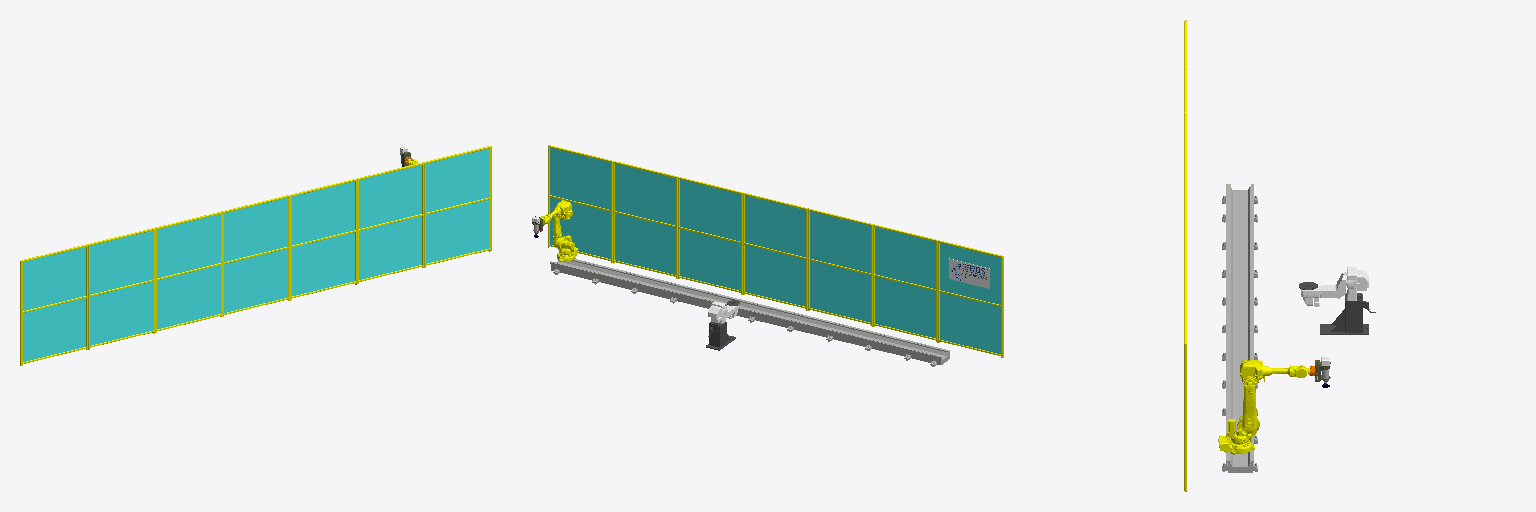
robot.urdf — tesseract_workcell_rail:
<?xml version="1.0" encoding="utf-8"?>
<!-- =================================================================================== -->
<!-- |    This document was autogenerated by xacro from workcell_rail.xacro            | -->
<!-- |    EDITING THIS FILE BY HAND IS NOT RECOMMENDED                                 | -->
<!-- =================================================================================== -->
<robot name="tesseract_workcell_rail">
  <!-- link list -->
  <link name="ati_qc110m_base_link">
    <visual>
      <origin rpy="0 0 0" xyz="0 0 0"/>
      <geometry>
        <mesh filename="package://twc_support/CAD/eoat/ati_qc110m/urdf/visual/base_link.dae"/>
      </geometry>
    </visual>
    <collision>
      <origin rpy="0 0 0" xyz="0 0 0"/>
      <geometry>
        <mesh filename="package://twc_support/CAD/eoat/ati_qc110m/urdf/visual/base_link.dae"/>
      </geometry>
    </collision>
  </link>
  <link name="ati_qc110m_tool0"/>
  <!-- end of link list -->
  <!-- joint list -->
  <joint name="ati_qc110m_base_link_tool0" type="fixed">
    <origin rpy="0 0 0" xyz="0 0 0.05537"/>
    <parent link="ati_qc110m_base_link"/>
    <child link="ati_qc110m_tool0"/>
  </joint>
  <!-- end of joint list -->
  <!-- link list -->
  <link name="ati_qc110f_base_link">
    <visual>
      <origin rpy="0 0 0" xyz="0 0 0"/>
      <geometry>
        <mesh filename="package://twc_support/CAD/eoat/ati_qc110f/urdf/visual/base_link.dae"/>
      </geometry>
    </visual>
    <collision>
      <origin rpy="0 0 0" xyz="0 0 0"/>
      <geometry>
        <mesh filename="package://twc_support/CAD/eoat/ati_qc110f/urdf/visual/base_link.dae"/>
      </geometry>
    </collision>
  </link>
  <link name="ati_qc110f_tool0"/>
  <!-- end of link list -->
  <!-- joint list -->
  <joint name="ati_qc110f_base_link_tool0" type="fixed">
    <origin rpy="0 0 0" xyz="0 0 0.03754"/>
    <parent link="ati_qc110f_base_link"/>
    <child link="ati_qc110f_tool0"/>
  </joint>
  <!-- end of joint list -->
  <!-- link list -->
  <link name="pushcorp_afd620_base_link">
    <visual>
      <origin rpy="0 0 0" xyz="0 0 0"/>
      <geometry>
        <mesh filename="package://twc_support/CAD/eoat/pushcorp_afd620/urdf/visual/base_link.dae"/>
      </geometry>
    </visual>
    <collision>
      <origin rpy="0 0 0" xyz="0 0 0"/>
      <geometry>
        <mesh filename="package://twc_support/CAD/eoat/pushcorp_afd620/urdf/visual/base_link.dae"/>
      </geometry>
    </collision>
  </link>
  <link name="pushcorp_afd620_link_1">
    <visual>
      <origin rpy="0 0 0" xyz="0 0 0"/>
      <geometry>
        <mesh filename="package://twc_support/CAD/eoat/pushcorp_afd620/urdf/visual/link_1.dae"/>
      </geometry>
    </visual>
    <collision>
      <origin rpy="0 0 0" xyz="0 0 0"/>
      <geometry>
        <mesh filename="package://twc_support/CAD/eoat/pushcorp_afd620/urdf/visual/link_1.dae"/>
      </geometry>
    </collision>
  </link>
  <link name="pushcorp_afd620_tool0"/>
  <!-- end of link list -->
  <!-- joint list -->
  <joint name="pushcorp_afd620_joint_1" type="prismatic">
    <origin rpy="0 0 0" xyz="0 0 0.08471"/>
    <parent link="pushcorp_afd620_base_link"/>
    <child link="pushcorp_afd620_link_1"/>
    <axis xyz="1 0 0"/>
    <limit effort="0" lower="-0.0254" upper="0.0254" velocity="1.4834"/>
  </joint>
  <joint name="pushcorp_afd620_joint_1_tool0" type="fixed">
    <origin rpy="0 0 0" xyz="0 0 0.03747"/>
    <parent link="pushcorp_afd620_link_1"/>
    <child link="pushcorp_afd620_tool0"/>
  </joint>
  <!-- end of joint list -->
  <!-- link list -->
  <link name="pushcorp_stc1015_base_link">
    <visual>
      <origin rpy="0 0 0" xyz="0 0 0"/>
      <geometry>
        <mesh filename="package://twc_support/CAD/eoat/pushcorp_stc1015/urdf/visual/base_link.dae"/>
      </geometry>
    </visual>
    <collision>
      <origin rpy="0 0 0" xyz="0 0 0"/>
      <geometry>
        <mesh filename="package://twc_support/CAD/eoat/pushcorp_stc1015/urdf/visual/base_link.dae"/>
      </geometry>
    </collision>
  </link>
  <link name="pushcorp_stc1015_tool0"/>
  <!-- end of link list -->
  <!-- joint list -->
  <joint name="pushcorp_stc1015_joint_tool0" type="fixed">
    <origin rpy="0 1.57 0" xyz="0.225 0 0.081695"/>
    <parent link="pushcorp_stc1015_base_link"/>
    <child link="pushcorp_stc1015_tool0"/>
  </joint>
  <!-- end of joint list -->
  <!-- link list -->
  <link name="positioner_base_link">
    <visual>
      <origin rpy="0 0 0" xyz="0 0 0"/>
      <geometry>
        <mesh filename="package://twc_support/CAD/robot/abb_irbpa250_d1000/urdf/visual/base_link.dae"/>
      </geometry>
    </visual>
    <collision>
      <origin rpy="0 0 0" xyz="0 0 0"/>
      <geometry>
        <mesh filename="package://twc_support/CAD/robot/abb_irbpa250_d1000/urdf/visual/base_link.dae"/>
      </geometry>
    </collision>
  </link>
  <link name="positioner_link_1">
    <visual>
      <origin rpy="0 0 0" xyz="0 0 0"/>
      <geometry>
        <mesh filename="package://twc_support/CAD/robot/abb_irbpa250_d1000/urdf/visual/link_1.dae"/>
      </geometry>
    </visual>
    <collision>
      <origin rpy="0 0 0" xyz="0 0 0"/>
      <geometry>
        <mesh filename="package://twc_support/CAD/robot/abb_irbpa250_d1000/urdf/visual/link_1.dae"/>
      </geometry>
    </collision>
  </link>
  <link name="positioner_link_2">
    <visual>
      <origin rpy="0 0 0" xyz="0 0 0"/>
      <geometry>
        <mesh filename="package://twc_support/CAD/robot/abb_irbpa250_d1000/urdf/visual/link_2.dae"/>
      </geometry>
    </visual>
    <collision>
      <origin rpy="0 0 0" xyz="0 0 0"/>
      <geometry>
        <mesh filename="package://twc_support/CAD/robot/abb_irbpa250_d1000/urdf/visual/link_2.dae"/>
      </geometry>
    </collision>
  </link>
  <link name="positioner_tool0"/>
  <!-- end of link list -->
  <!-- joint list -->
  <joint name="positioner_base_joint" type="revolute">
    <origin rpy="0 0 0" xyz="0.733 0 1.020"/>
    <parent link="positioner_base_link"/>
    <child link="positioner_link_1"/>
    <axis xyz="1 0 0"/>
    <limit effort="0" lower="-6.28319" upper="6.28319" velocity="1.4834"/>
  </joint>
  <joint name="positioner_joint_1" type="revolute">
    <origin rpy="0 0 0" xyz="-0.733 0 0"/>
    <parent link="positioner_link_1"/>
    <child link="positioner_link_2"/>
    <axis xyz="0 0 1"/>
    <limit effort="0" lower="-6.28319" upper="6.28319" velocity="1.4834"/>
  </joint>
  <joint name="positioner_joint_2_tool0" type="fixed">
    <origin rpy="0 0 0" xyz="0 0 0.10487"/>
    <parent link="positioner_link_2"/>
    <child link="positioner_tool0"/>
  </joint>
  <!-- end of joint list -->
  <!-- link list -->
  <link name="st_base_link">
    <visual>
      <origin rpy="0 0 0" xyz="0 0 0"/>
      <geometry>
        <mesh filename="package://twc_support/CAD/eoat/bt30_sander/urdf/visual/base_link.dae"/>
      </geometry>
    </visual>
    <collision>
      <origin rpy="0 0 0" xyz="0 0 0"/>
      <geometry>
        <mesh filename="package://twc_support/CAD/eoat/bt30_sander/urdf/visual/base_link.dae"/>
      </geometry>
    </collision>
  </link>
  <link name="st_tool0"/>
  <!-- end of link list -->
  <!-- joint list -->
  <joint name="st_joint_tool0" type="fixed">
    <origin rpy="0 0 0" xyz="0 0 0.07328"/>
    <parent link="st_base_link"/>
    <child link="st_tool0"/>
  </joint>
  <!-- end of joint list -->
  <!-- link list -->
  <link name="robot_base_link">
    <collision name="collision">
      <geometry>
        <mesh filename="package://twc_support/CAD/robot/abb_irb4600_60_205/urdf/collision/base_link.stl"/>
      </geometry>
    </collision>
    <visual name="visual">
      <geometry>
        <mesh filename="package://twc_support/CAD/robot/abb_irb4600_60_205/urdf/visual/base_link.dae"/>
      </geometry>
      <material name="yellow">
        <color rgba="1 1 0 1"/>
      </material>
    </visual>
  </link>
  <link name="robot_link_1">
    <collision name="collision">
      <geometry>
        <mesh filename="package://twc_support/CAD/robot/abb_irb4600_60_205/urdf/collision/link_1.stl"/>
      </geometry>
    </collision>
    <visual name="visual">
      <geometry>
        <mesh filename="package://twc_support/CAD/robot/abb_irb4600_60_205/urdf/visual/link_1.dae"/>
      </geometry>
      <material name="yellow"/>
    </visual>
  </link>
  <link name="robot_link_2">
    <collision name="collision">
      <geometry>
        <mesh filename="package://twc_support/CAD/robot/abb_irb4600_60_205/urdf/collision/link_2.stl"/>
      </geometry>
    </collision>
    <visual name="visual">
      <geometry>
        <mesh filename="package://twc_support/CAD/robot/abb_irb4600_60_205/urdf/visual/link_2.dae"/>
      </geometry>
      <material name="yellow"/>
    </visual>
  </link>
  <link name="robot_link_3">
    <collision name="collision">
      <geometry>
        <mesh filename="package://twc_support/CAD/robot/abb_irb4600_60_205/urdf/collision/link_3.stl"/>
      </geometry>
    </collision>
    <visual name="visual">
      <geometry>
        <mesh filename="package://twc_support/CAD/robot/abb_irb4600_60_205/urdf/visual/link_3.dae"/>
      </geometry>
      <material name="yellow"/>
    </visual>
  </link>
  <link name="robot_link_4">
    <collision name="collision">
      <geometry>
        <mesh filename="package://twc_support/CAD/robot/abb_irb4600_60_205/urdf/collision/link_4.stl"/>
      </geometry>
    </collision>
    <visual name="visual">
      <geometry>
        <mesh filename="package://twc_support/CAD/robot/abb_irb4600_60_205/urdf/visual/link_4.dae"/>
      </geometry>
      <material name="yellow"/>
    </visual>
  </link>
  <link name="robot_link_5">
    <collision name="collision">
      <geometry>
        <mesh filename="package://twc_support/CAD/robot/abb_irb4600_60_205/urdf/collision/link_5.stl"/>
      </geometry>
    </collision>
    <visual name="visual">
      <geometry>
        <mesh filename="package://twc_support/CAD/robot/abb_irb4600_60_205/urdf/visual/link_5.dae"/>
      </geometry>
      <material name="yellow"/>
    </visual>
  </link>
  <link name="robot_link_6">
    <collision name="collision">
      <geometry>
        <mesh filename="package://twc_support/CAD/robot/abb_irb4600_60_205/urdf/collision/link_6.stl"/>
      </geometry>
    </collision>
    <visual name="visual">
      <geometry>
        <mesh filename="package://twc_support/CAD/robot/abb_irb4600_60_205/urdf/visual/link_6.dae"/>
      </geometry>
      <material name="yellow"/>
    </visual>
  </link>
  <link name="robot_tool0"/>
  <!-- end of link list -->
  <!-- joint list -->
  <joint name="robot_joint_1" type="revolute">
    <origin rpy="0 0 0" xyz="0 0 0.495"/>
    <axis xyz="0 0 1"/>
    <parent link="robot_base_link"/>
    <child link="robot_link_1"/>
    <limit effort="0" lower="-3.141" upper="3.141" velocity="3.054"/>
  </joint>
  <joint name="robot_joint_2" type="revolute">
    <origin rpy="0 0 0" xyz="0.175 0 0"/>
    <axis xyz="0 1 0"/>
    <parent link="robot_link_1"/>
    <child link="robot_link_2"/>
    <limit effort="0" lower="-1.570" upper="2.617" velocity="3.054"/>
  </joint>
  <joint name="robot_joint_3" type="revolute">
    <origin rpy="0 0 0" xyz="0 0 0.9"/>
    <axis xyz="0 1 0"/>
    <parent link="robot_link_2"/>
    <child link="robot_link_3"/>
    <limit effort="0" lower="-3.141" upper="1.308" velocity="3.054"/>
  </joint>
  <joint name="robot_joint_4" type="revolute">
    <origin rpy="0 0 0" xyz="0 0 0.175"/>
    <axis xyz="1 0 0"/>
    <parent link="robot_link_3"/>
    <child link="robot_link_4"/>
    <limit effort="0" lower="-6.981" upper="6.981" velocity="4.363"/>
  </joint>
  <joint name="robot_joint_5" type="revolute">
    <origin rpy="0 0 0" xyz="0.960 0 0 "/>
    <axis xyz="0 1 0"/>
    <parent link="robot_link_4"/>
    <child link="robot_link_5"/>
    <limit effort="0" lower="-2.181" upper="2.094" velocity="4.363"/>
  </joint>
  <joint name="robot_joint_6" type="revolute">
    <origin rpy="0 0 0" xyz="0 0 0 "/>
    <axis xyz="1 0 0"/>
    <parent link="robot_link_5"/>
    <child link="robot_link_6"/>
    <limit effort="0" lower="-6.981" upper="6.981" velocity="6.283"/>
  </joint>
  <joint name="robot_joint_6-tool0" type="fixed">
    <parent link="robot_link_6"/>
    <child link="robot_tool0"/>
    <origin rpy="0 1.57079632679 0" xyz="0.135 0 0"/>
  </joint>
  <!-- end of joint list -->
  <!-- ROS base_link to ABB World Coordinates transform -->
  <link name="robot_base"/>
  <joint name="robot_base_link-base" type="fixed">
    <origin rpy="0 0 0" xyz="0 0 0"/>
    <parent link="robot_base_link"/>
    <child link="robot_base"/>
  </joint>
  <!-- link list -->
  <link name="rail_base_link">
    <visual>
      <origin rpy="0 0 0" xyz="0 0 0"/>
      <geometry>
        <mesh filename="package://twc_support/CAD/rail/gudel_tmf2/urdf/visual/base_link.dae"/>
      </geometry>
    </visual>
    <collision>
      <origin rpy="0 0 0" xyz="0 0 0"/>
      <geometry>
        <mesh filename="package://twc_support/CAD/rail/gudel_tmf2/urdf/visual/base_link.dae"/>
      </geometry>
    </collision>
  </link>
  <link name="rail_link_1">
    <visual>
      <origin rpy="0 0 0" xyz="0 0 0"/>
      <geometry>
        <mesh filename="package://twc_support/CAD/rail/gudel_tmf2/urdf/visual/link_1.dae"/>
      </geometry>
    </visual>
    <collision>
      <origin rpy="0 0 0" xyz="0 0 0"/>
      <geometry>
        <mesh filename="package://twc_support/CAD/rail/gudel_tmf2/urdf/visual/link_1.dae"/>
      </geometry>
    </collision>
  </link>
  <link name="rail_tool0"/>
  <!-- end of link list -->
  <!-- joint list -->
  <joint name="rail_joint_1" type="prismatic">
    <origin rpy="0 0 0" xyz="0 0 0"/>
    <parent link="rail_base_link"/>
    <child link="rail_link_1"/>
    <axis xyz="0 1 0"/>
    <limit effort="0" lower="0" upper="10" velocity="2.5"/>
  </joint>
  <joint name="rail_joint_1_tool0" type="fixed">
    <origin rpy="0 0 0" xyz="0 0.125 0.340"/>
    <parent link="rail_link_1"/>
    <child link="rail_tool0"/>
  </joint>
  <!-- end of joint list -->
  <!-- link list -->
  <link name="fence_panel1_base_link">
    <visual>
      <origin rpy="0 0 0" xyz="0 0 0"/>
      <geometry>
        <mesh filename="package://twc_support/CAD/fence/panel_3m_2m_solid/urdf/visual/base_link.dae"/>
      </geometry>
    </visual>
    <collision>
      <origin rpy="0 0 0" xyz="0 0 0"/>
      <geometry>
        <mesh filename="package://twc_support/CAD/fence/panel_3m_2m_solid/urdf/visual/base_link.dae"/>
      </geometry>
    </collision>
  </link>
  <link name="fence_panel1_tool0"/>
  <joint name="fence_panel1_joint_1" type="fixed">
    <origin rpy="0 0 0" xyz="2.0 0 0"/>
    <parent link="fence_panel1_base_link"/>
    <child link="fence_panel1_tool0"/>
  </joint>
  <!-- link list -->
  <link name="fence_panel2_base_link">
    <visual>
      <origin rpy="0 0 0" xyz="0 0 0"/>
      <geometry>
        <mesh filename="package://twc_support/CAD/fence/panel_3m_2m_solid/urdf/visual/base_link.dae"/>
      </geometry>
    </visual>
    <collision>
      <origin rpy="0 0 0" xyz="0 0 0"/>
      <geometry>
        <mesh filename="package://twc_support/CAD/fence/panel_3m_2m_solid/urdf/visual/base_link.dae"/>
      </geometry>
    </collision>
  </link>
  <link name="fence_panel2_tool0"/>
  <joint name="fence_panel2_joint_1" type="fixed">
    <origin rpy="0 0 0" xyz="2.0 0 0"/>
    <parent link="fence_panel2_base_link"/>
    <child link="fence_panel2_tool0"/>
  </joint>
  <!-- link list -->
  <link name="fence_panel3_base_link">
    <visual>
      <origin rpy="0 0 0" xyz="0 0 0"/>
      <geometry>
        <mesh filename="package://twc_support/CAD/fence/panel_3m_2m_solid/urdf/visual/base_link.dae"/>
      </geometry>
    </visual>
    <collision>
      <origin rpy="0 0 0" xyz="0 0 0"/>
      <geometry>
        <mesh filename="package://twc_support/CAD/fence/panel_3m_2m_solid/urdf/visual/base_link.dae"/>
      </geometry>
    </collision>
  </link>
  <link name="fence_panel3_tool0"/>
  <joint name="fence_panel3_joint_1" type="fixed">
    <origin rpy="0 0 0" xyz="2.0 0 0"/>
    <parent link="fence_panel3_base_link"/>
    <child link="fence_panel3_tool0"/>
  </joint>
  <!-- link list -->
  <link name="fence_panel4_base_link">
    <visual>
      <origin rpy="0 0 0" xyz="0 0 0"/>
      <geometry>
        <mesh filename="package://twc_support/CAD/fence/panel_3m_2m_solid/urdf/visual/base_link.dae"/>
      </geometry>
    </visual>
    <collision>
      <origin rpy="0 0 0" xyz="0 0 0"/>
      <geometry>
        <mesh filename="package://twc_support/CAD/fence/panel_3m_2m_solid/urdf/visual/base_link.dae"/>
      </geometry>
    </collision>
  </link>
  <link name="fence_panel4_tool0"/>
  <joint name="fence_panel4_joint_1" type="fixed">
    <origin rpy="0 0 0" xyz="2.0 0 0"/>
    <parent link="fence_panel4_base_link"/>
    <child link="fence_panel4_tool0"/>
  </joint>
  <!-- link list -->
  <link name="fence_panel5_base_link">
    <visual>
      <origin rpy="0 0 0" xyz="0 0 0"/>
      <geometry>
        <mesh filename="package://twc_support/CAD/fence/panel_3m_2m_solid/urdf/visual/base_link.dae"/>
      </geometry>
    </visual>
    <collision>
      <origin rpy="0 0 0" xyz="0 0 0"/>
      <geometry>
        <mesh filename="package://twc_support/CAD/fence/panel_3m_2m_solid/urdf/visual/base_link.dae"/>
      </geometry>
    </collision>
  </link>
  <link name="fence_panel5_tool0"/>
  <joint name="fence_panel5_joint_1" type="fixed">
    <origin rpy="0 0 0" xyz="2.0 0 0"/>
    <parent link="fence_panel5_base_link"/>
    <child link="fence_panel5_tool0"/>
  </joint>
  <!-- link list -->
  <link name="fence_panel6_base_link">
    <visual>
      <origin rpy="0 0 0" xyz="0 0 0"/>
      <geometry>
        <mesh filename="package://twc_support/CAD/fence/panel_3m_2m_solid/urdf/visual/base_link.dae"/>
      </geometry>
    </visual>
    <collision>
      <origin rpy="0 0 0" xyz="0 0 0"/>
      <geometry>
        <mesh filename="package://twc_support/CAD/fence/panel_3m_2m_solid/urdf/visual/base_link.dae"/>
      </geometry>
    </collision>
  </link>
  <link name="fence_panel6_tool0"/>
  <joint name="fence_panel6_joint_1" type="fixed">
    <origin rpy="0 0 0" xyz="2.0 0 0"/>
    <parent link="fence_panel6_base_link"/>
    <child link="fence_panel6_tool0"/>
  </joint>
  <!-- link list -->
  <link name="fence_panel7_base_link">
    <visual>
      <origin rpy="0 0 0" xyz="0 0 0"/>
      <geometry>
        <mesh filename="package://twc_support/CAD/fence/panel_3m_2m_solid/urdf/visual/base_link.dae"/>
      </geometry>
    </visual>
    <collision>
      <origin rpy="0 0 0" xyz="0 0 0"/>
      <geometry>
        <mesh filename="package://twc_support/CAD/fence/panel_3m_2m_solid/urdf/visual/base_link.dae"/>
      </geometry>
    </collision>
  </link>
  <link name="fence_panel7_tool0"/>
  <joint name="fence_panel7_joint_1" type="fixed">
    <origin rpy="0 0 0" xyz="2.0 0 0"/>
    <parent link="fence_panel7_base_link"/>
    <child link="fence_panel7_tool0"/>
  </joint>
  <link name="logo_base_link">
    <visual>
      <origin rpy="0 0 0" xyz="-0.125 -0.05 0.01"/>
      <geometry>
        <box size="1.25 0.6 0.02"/>
      </geometry>
      <material name="WhiteLogo">
        <color rgba="1.0 1.0 1.0 1.0"/>
      </material>
    </visual>
    <visual>
      <origin rpy="0 0 0" xyz="0 0 0.02"/>
      <geometry>
        <mesh filename="package://twc_support/CAD/logo/ros_industrial/urdf/visual/ros_industrial_logo.dae"/>
      </geometry>
    </visual>
    <collision>
      <origin rpy="0 0 0" xyz="0 0 0"/>
      <geometry>
        <box size="1 1 0.03"/>
      </geometry>
    </collision>
  </link>
  <!-- link list -->
  <link name="world"/>
  <link name="tool_dock0"/>
  <link name="part_link">
    <visual>
      <origin rpy="0 0 0" xyz="0 0 0"/>
      <geometry>
        <mesh filename="package://twc_support/meshes/fuselage_part.dae"/>
      </geometry>
    </visual>
    <collision>
      <origin rpy="0 0 0" xyz="0 0 0"/>
      <geometry>
        <mesh filename="package://twc_support/meshes/fuselage_part.ply"/>
      </geometry>
    </collision>
  </link>
  <!-- joint list -->
  <joint name="world_positioner_joint" type="fixed">
    <origin rpy="0 0 1.5708" xyz="0 0.25 0"/>
    <parent link="world"/>
    <child link="positioner_base_link"/>
  </joint>
  <joint name="world_rail_joint" type="fixed">
    <origin rpy="0 0 1.5708" xyz="6 -1 0"/>
    <parent link="world"/>
    <child link="rail_base_link"/>
  </joint>
  <joint name="rail_robot_joint" type="fixed">
    <origin rpy="0 0 0" xyz="0 0 0"/>
    <parent link="rail_tool0"/>
    <child link="robot_base_link"/>
  </joint>
  <joint name="robot_ati_m_joint" type="fixed">
    <!--      <origin xyz="0 0 0.05" rpy="0 0.785398 3.14159" />-->
    <origin rpy="0 0 0" xyz="0 0 0"/>
    <parent link="robot_tool0"/>
    <child link="ati_qc110m_base_link"/>
  </joint>
  <joint name="world_tool_dock0_joint" type="fixed">
    <origin rpy="-1.5708 -1.5708 -3.14" xyz="-1 -1 1"/>
    <parent link="world"/>
    <child link="tool_dock0"/>
  </joint>
  <!--<joint name="${prefix}tool_dock0_ati_f_joint" type="fixed">
      <origin xyz="0 0 0" rpy="0 0 0" />
      <parent link="${prefix}tool_dock0" />
      <child link="${prefix}ati_f_base_link" />
    </joint>-->
  <joint name="robot_ati_f_joint" type="fixed">
    <origin rpy="0 0 0" xyz="0 0 0"/>
    <parent link="ati_qc110m_tool0"/>
    <child link="ati_qc110f_base_link"/>
  </joint>
  <joint name="ati_m_pushcorp_afd_joint" type="fixed">
    <origin rpy="0 0 0" xyz="0 0 0"/>
    <parent link="ati_qc110f_tool0"/>
    <child link="pushcorp_afd620_base_link"/>
  </joint>
  <joint name="pushcorp_afd_stc_parallel_joint" type="fixed">
    <origin rpy="0 0 0" xyz="0 0 0"/>
    <parent link="pushcorp_afd620_tool0"/>
    <child link="pushcorp_stc1015_base_link"/>
  </joint>
  <joint name="positioner_part_joint" type="fixed">
    <!--      <origin xyz="-0.4 -1.1 -0.2" rpy="0 -0.523599 0" />-->
    <origin rpy="0 0 0" xyz="-0.55 -1.1 0"/>
    <parent link="positioner_tool0"/>
    <child link="part_link"/>
  </joint>
  <joint name="bt30_sander_joint" type="fixed">
    <origin rpy="0 0 0" xyz="0 0 0"/>
    <parent link="pushcorp_stc1015_tool0"/>
    <child link="st_base_link"/>
  </joint>
  <joint name="fence_panel1_joint" type="fixed">
    <origin rpy="0 0 0" xyz="-7 -2 0"/>
    <parent link="world"/>
    <child link="fence_panel1_base_link"/>
  </joint>
  <joint name="fence_panel2_joint" type="fixed">
    <origin rpy="0 0 0" xyz="0 0 0"/>
    <parent link="fence_panel1_tool0"/>
    <child link="fence_panel2_base_link"/>
  </joint>
  <joint name="fence_panel3_joint" type="fixed">
    <origin rpy="0 0 0" xyz="0 0 0"/>
    <parent link="fence_panel2_tool0"/>
    <child link="fence_panel3_base_link"/>
  </joint>
  <joint name="fence_panel4_joint" type="fixed">
    <origin rpy="0 0 0" xyz="0 0 0"/>
    <parent link="fence_panel3_tool0"/>
    <child link="fence_panel4_base_link"/>
  </joint>
  <joint name="fence_panel5_joint" type="fixed">
    <origin rpy="0 0 0" xyz="0 0 0"/>
    <parent link="fence_panel4_tool0"/>
    <child link="fence_panel5_base_link"/>
  </joint>
  <joint name="fence_panel6_joint" type="fixed">
    <origin rpy="0 0 0" xyz="0 0 0"/>
    <parent link="fence_panel5_tool0"/>
    <child link="fence_panel6_base_link"/>
  </joint>
  <joint name="fence_panel7_joint" type="fixed">
    <origin rpy="0 0 0" xyz="0 0 0"/>
    <parent link="fence_panel6_tool0"/>
    <child link="fence_panel7_base_link"/>
  </joint>
  <joint name="logo_joint" type="fixed">
    <origin rpy="1.5708 0 3.14159" xyz="0.9 0 2.3"/>
    <parent link="fence_panel1_base_link"/>
    <child link="logo_base_link"/>
  </joint>
  <!-- end of joint list -->
</robot>

--- Facts derived from the render (not from the file) ---
Views: 3 orthographic renders of the robot side by side, from view 1: azimuth 30°, elevation 25°; view 2: azimuth 150°, elevation 25°; view 3: azimuth 270°, elevation 25°.
Model tesseract_workcell_rail with 45 links and 44 joints (8 revolute, 2 prismatic, 34 fixed), rooted at world, posed all joints at 0.
Links seen in each view (by area): view 1: fence_panel7_base_link, fence_panel1_base_link, fence_panel2_base_link, fence_panel4_base_link, fence_panel6_base_link, fence_panel3_base_link, fence_panel5_base_link; view 2: rail_base_link, fence_panel6_base_link, fence_panel2_base_link, fence_panel3_base_link, fence_panel4_base_link, fence_panel5_base_link, fence_panel1_base_link, fence_panel7_base_link, positioner_base_link, logo_base_link; view 3: rail_base_link, positioner_base_link, robot_link_2, positioner_link_1, fence_panel7_base_link.
Link boxes in pixels (x1,y1,x2,y2): fence_panel7_base_link: (424, 146, 491, 267); fence_panel1_base_link: (20, 244, 87, 365); fence_panel2_base_link: (88, 228, 155, 349); fence_panel4_base_link: (222, 195, 289, 316); fence_panel6_base_link: (357, 162, 423, 283); fence_panel3_base_link: (155, 211, 222, 332); fence_panel5_base_link: (290, 179, 356, 300); rail_base_link: (550, 259, 949, 366); fence_panel6_base_link: (613, 161, 677, 278); fence_panel2_base_link: (873, 224, 937, 342); fence_panel3_base_link: (808, 208, 872, 326); fence_panel4_base_link: (743, 193, 807, 310); fence_panel5_base_link: (678, 177, 742, 294); fence_panel1_base_link: (938, 240, 1003, 357); fence_panel7_base_link: (548, 145, 612, 262); positioner_base_link: (706, 301, 735, 350); logo_base_link: (949, 258, 989, 288); rail_base_link: (1222, 184, 1257, 472); positioner_base_link: (1320, 267, 1375, 334); robot_link_2: (1242, 378, 1256, 434); positioner_link_1: (1301, 272, 1345, 306); fence_panel7_base_link: (1184, 297, 1186, 491).
Bounding box of the posed robot: 14 × 3.51 × 3.04 m (x, y, z).
25 mesh visuals loaded from 21 distinct referenced files (19 Collada DAE); not drawn: 2 (reference not matched to a file when rendering).
